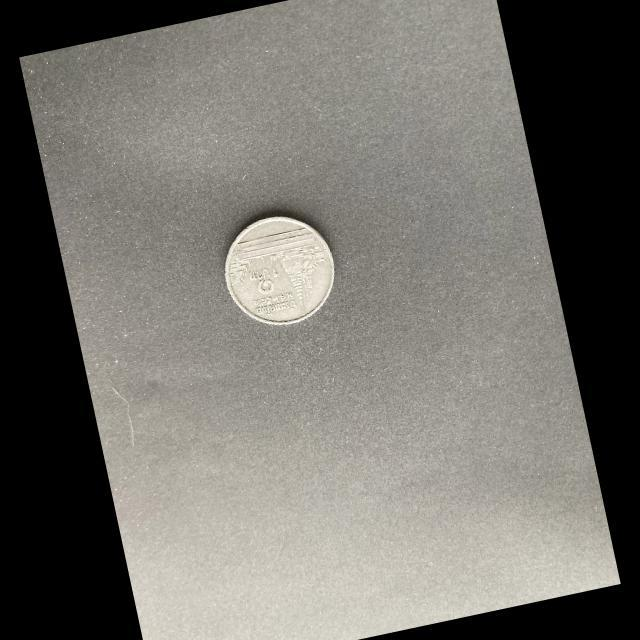1 Bath: (221, 213, 341, 330)
